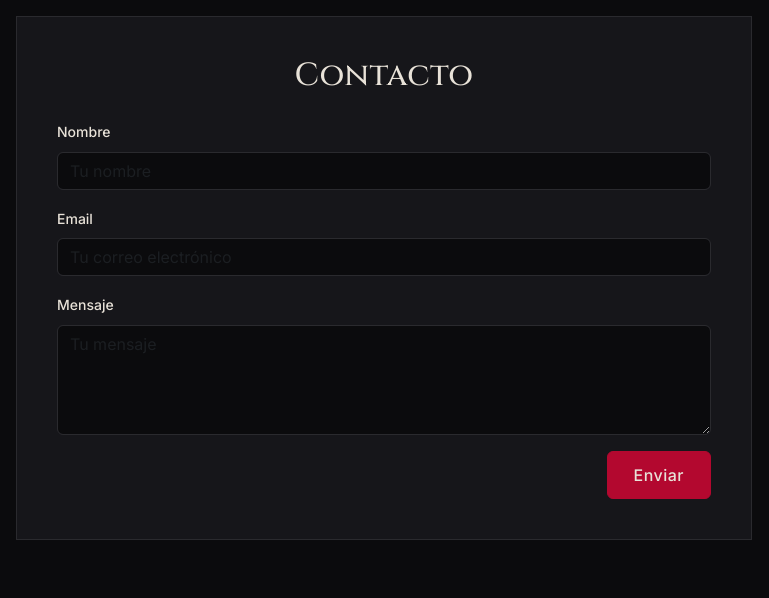
it: Contacto › al enviar muestra la confirmación y limpia el formulario
Type "Vicente" into the field labelled "Nombre" at (384, 171), box x1=57 y1=152 x2=711 y2=190
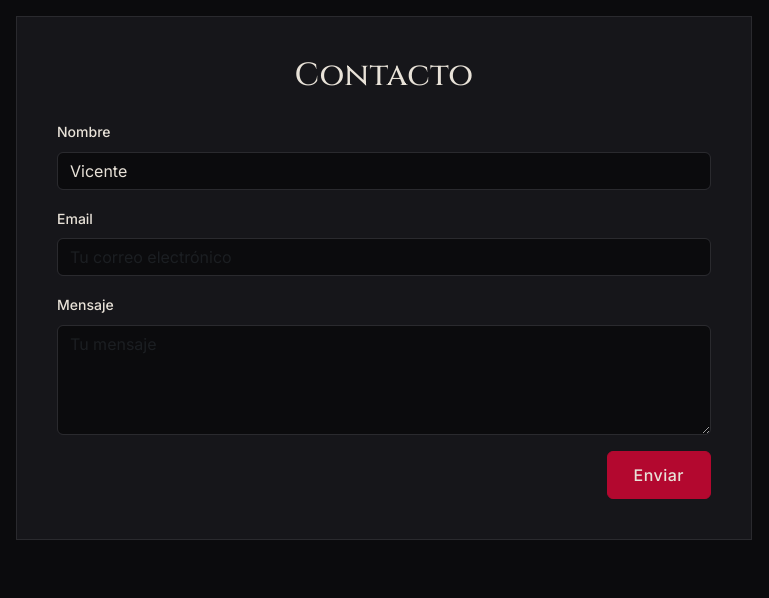
Type "v@correo.cl" into the field labelled "Email" at (384, 257), box x1=57 y1=238 x2=711 y2=276
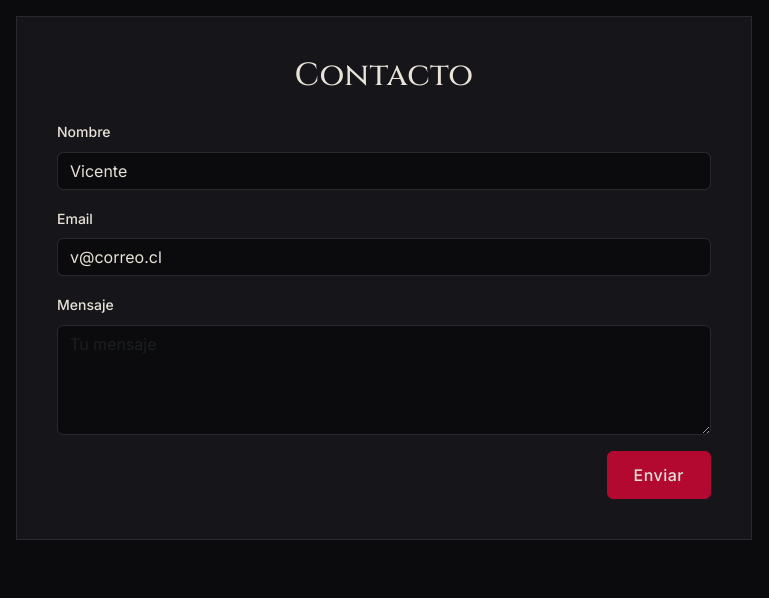
Type "Hola" into the text box labelled "Mensaje" at (384, 380), box x1=57 y1=325 x2=711 y2=435
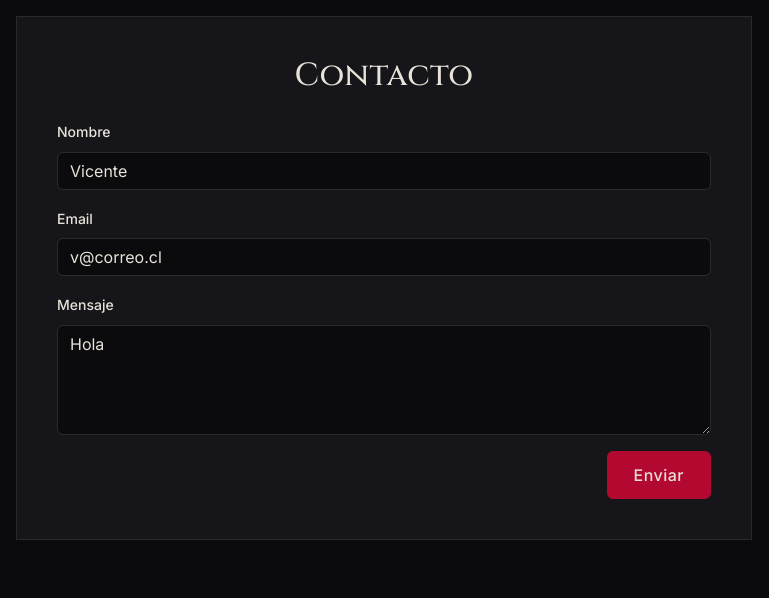
Submit the form labelled "Nombre", box x1=57 y1=119 x2=711 y2=499
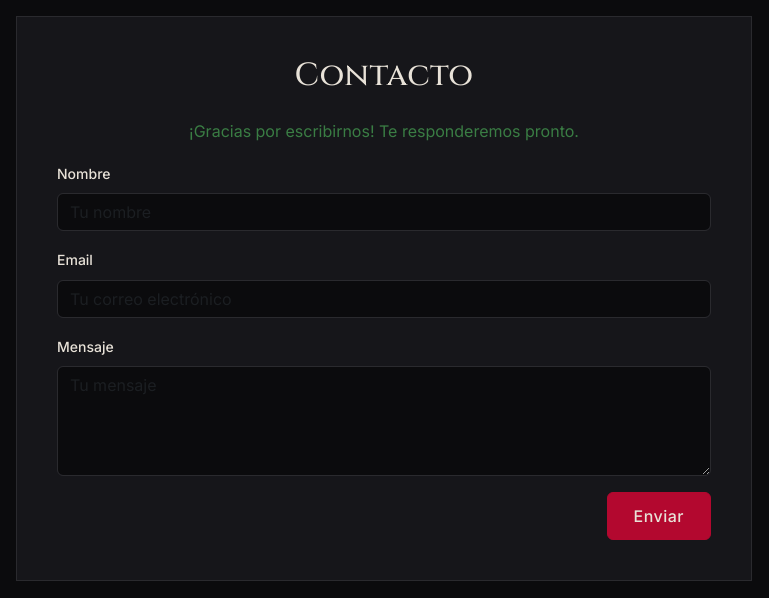
Expected: the text "¡Gracias por escribirnos! Te responderemos pronto." is shown, x1=189 y1=121 x2=579 y2=141
Expected: the field labelled "Nombre" is empty, x1=57 y1=193 x2=711 y2=231
